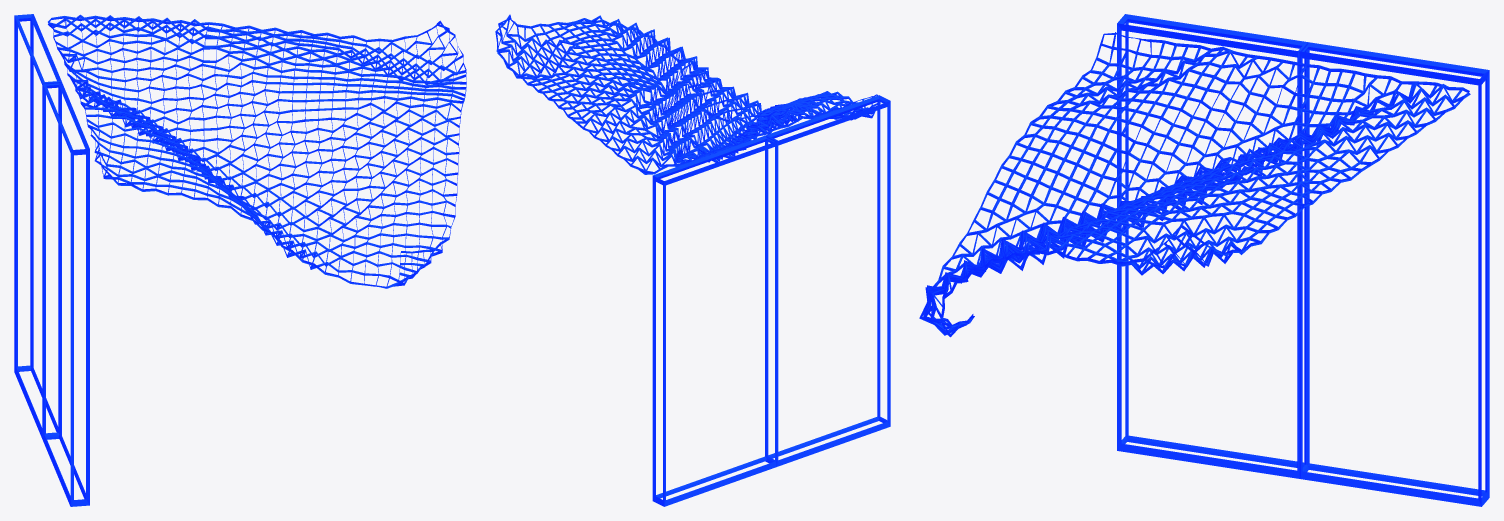
Rendered from wireframewindow.glb.
3 views of the same model, side by side, from view 1: azimuth 30°, elevation 25°; view 2: azimuth 150°, elevation 25°; view 3: azimuth 270°, elevation 25° (orthographic). The views are drawn at different scales.
Visible parts, largest first — view 1: Plane.001, Cube.001; view 2: Plane.001, Cube.001; view 3: Plane.001, Cube.001.
Part boxes in pixels (x1=…): Plane.001: x1=48, y1=14, x2=466, y2=288; Cube.001: x1=14, y1=14, x2=89, y2=506; Plane.001: x1=495, y1=14, x2=880, y2=174; Cube.001: x1=652, y1=95, x2=890, y2=506; Plane.001: x1=919, y1=32, x2=1470, y2=337; Cube.001: x1=1117, y1=14, x2=1489, y2=506.
Bounding box in the file's own units: 20.49 × 18.06 × 20.88.
